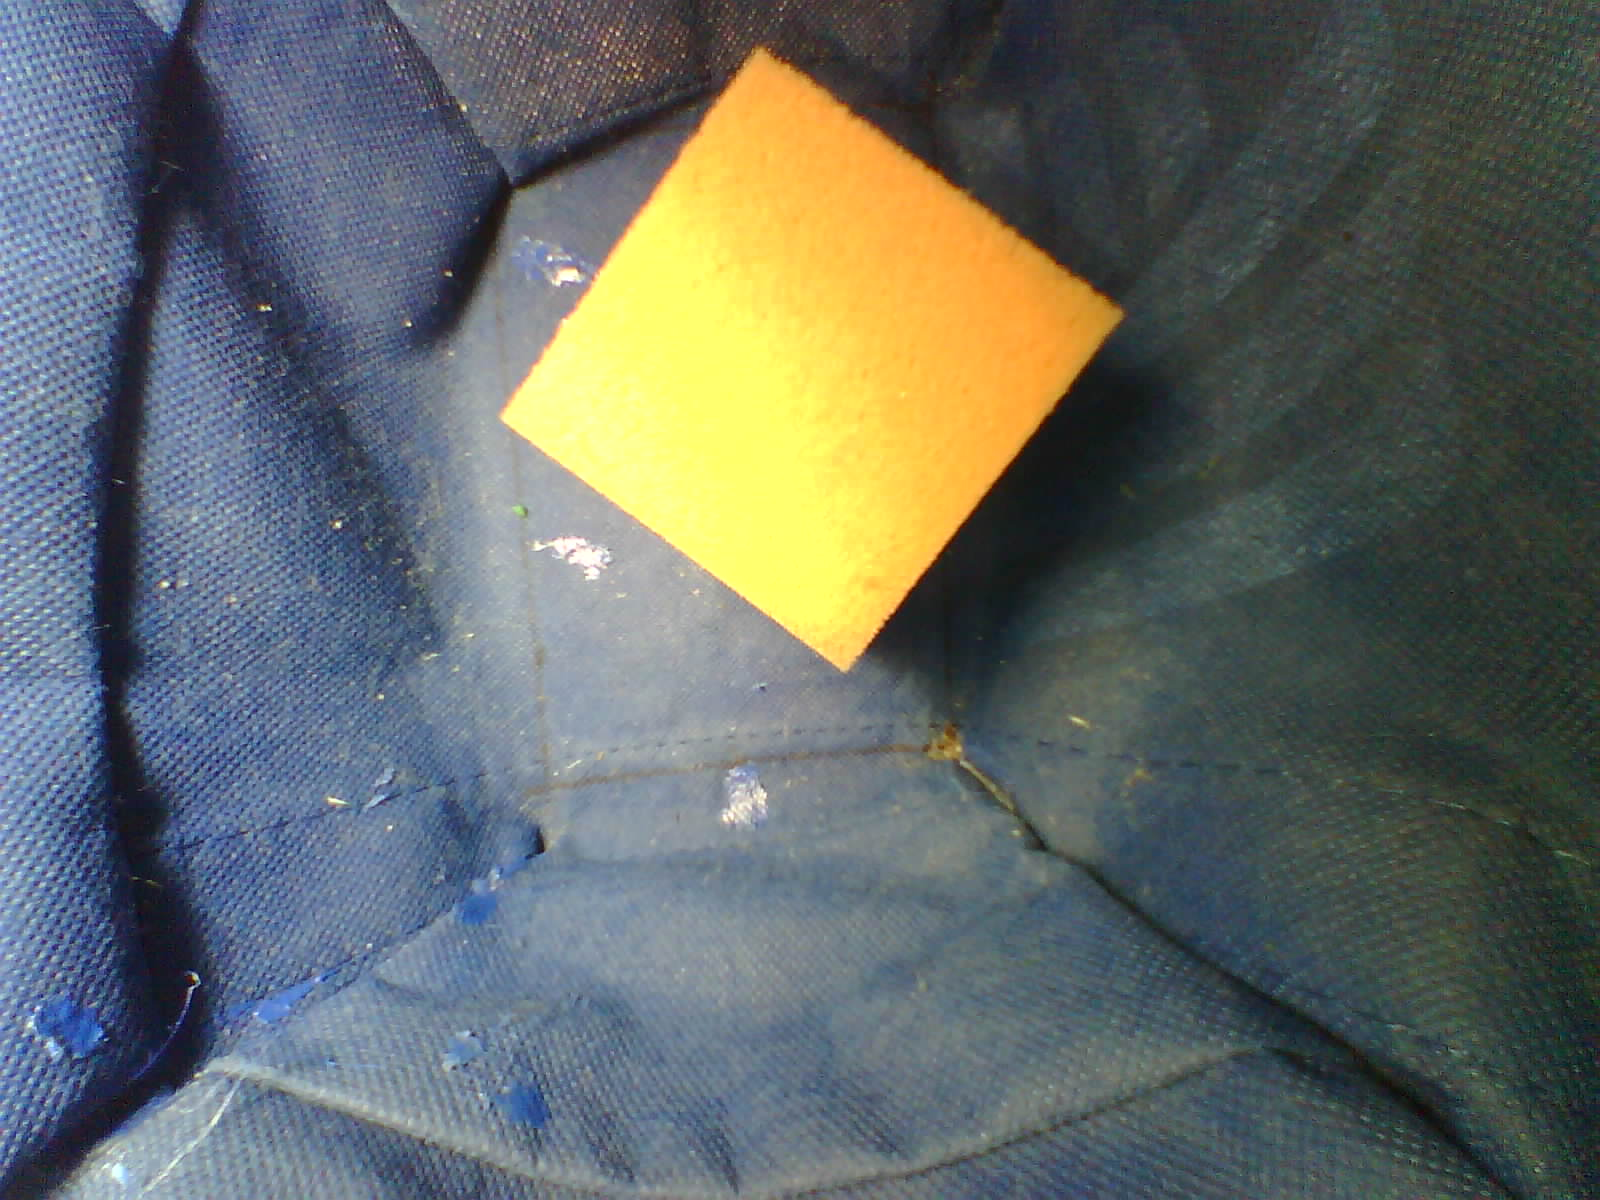cube-soft: (484, 33, 1146, 703)
